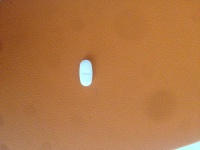Centik Buskopan: (78, 58, 93, 87)
